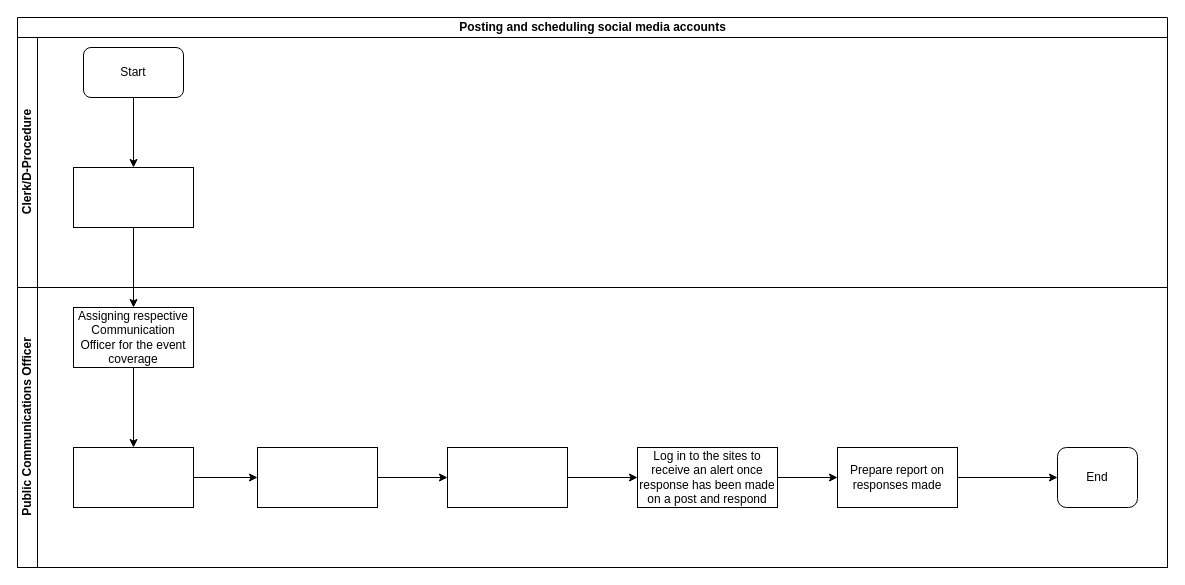
This 1185x585 diagram has some shape labels left out. The centre of each missing label's shape, as x and y in pixels:
Event coverage (manual process): (x=317, y=477)
Notification of an event/plenary sitting of the Assembly: (x=133, y=197)
Prepare a pre-event update for posting to the social media accounts: (x=133, y=477)
Update the event to the social media account: (x=507, y=477)
